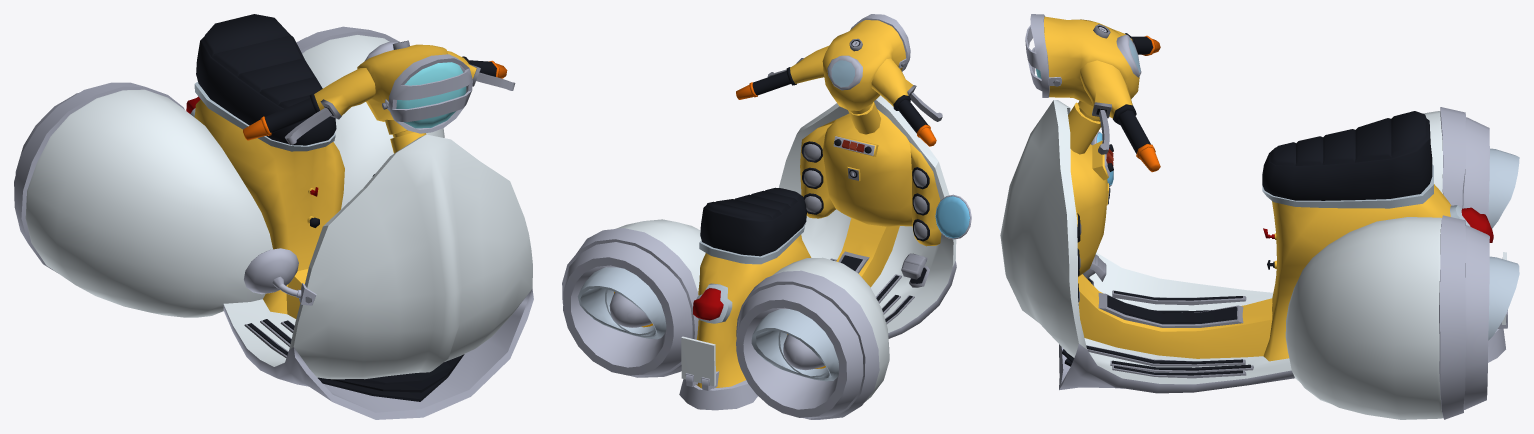
File: PROP_Moto01.FBX
3 renders of one model, left to right at view 1: azimuth 30°, elevation 25°; view 2: azimuth 150°, elevation 25°; view 3: azimuth 270°, elevation 25°, orthographic. The views are drawn at different scales.
Parts seen in each view (by area): view 1: PROP_Moto01; view 2: PROP_Moto01; view 3: PROP_Moto01.
Part boxes in pixels (x1=…): PROP_Moto01: x1=14, y1=14, x2=533, y2=419; PROP_Moto01: x1=562, y1=14, x2=971, y2=419; PROP_Moto01: x1=1000, y1=14, x2=1519, y2=419.
Size of the model in its own units: 118 by 102 by 133.
Materials: 1 (1 with a texture image).
